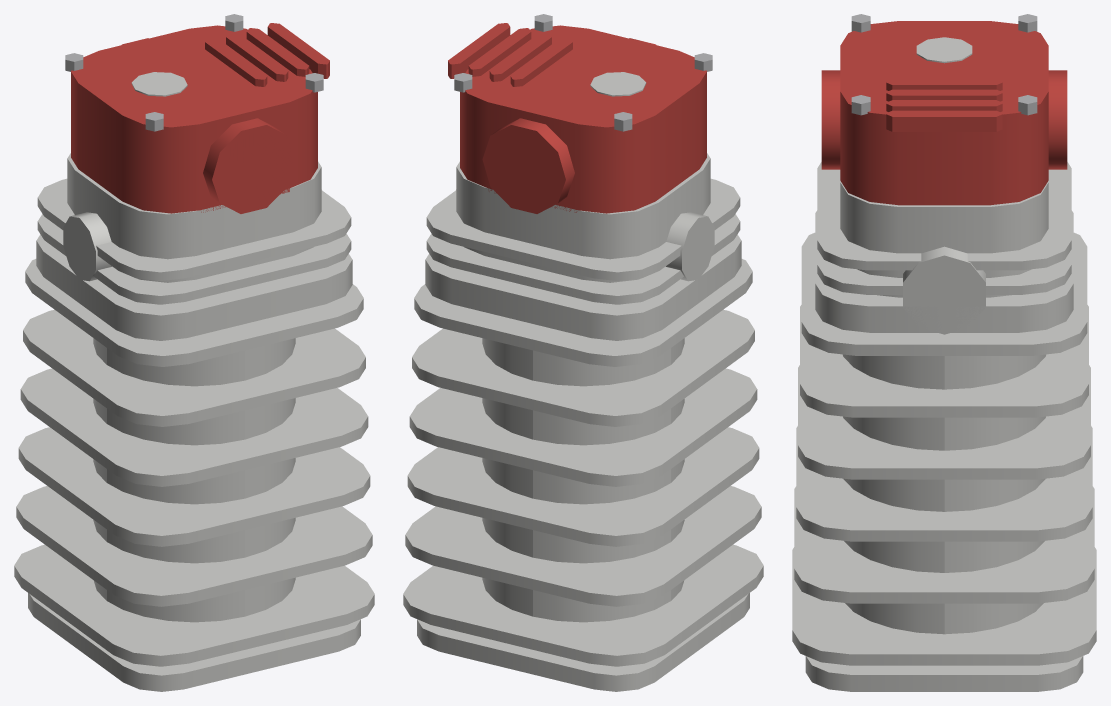
The model's file is hot_cam_2_lod1.glb.
3 views of the same model, side by side, from view 1: azimuth 30°, elevation 25°; view 2: azimuth 150°, elevation 25°; view 3: azimuth 270°, elevation 25° (orthographic). The views are drawn at different scales.
Visible parts, largest first — view 1: hot_cam_2_lod1; view 2: hot_cam_2_lod1; view 3: hot_cam_2_lod1.
Boxes of the visible parts, x1,y1,x2,y2 form: hot_cam_2_lod1: (14,14,374,691); hot_cam_2_lod1: (403,14,763,691); hot_cam_2_lod1: (792,14,1096,691).
Bounding box in the file's own units: 0.146 × 0.3043 × 0.146.
